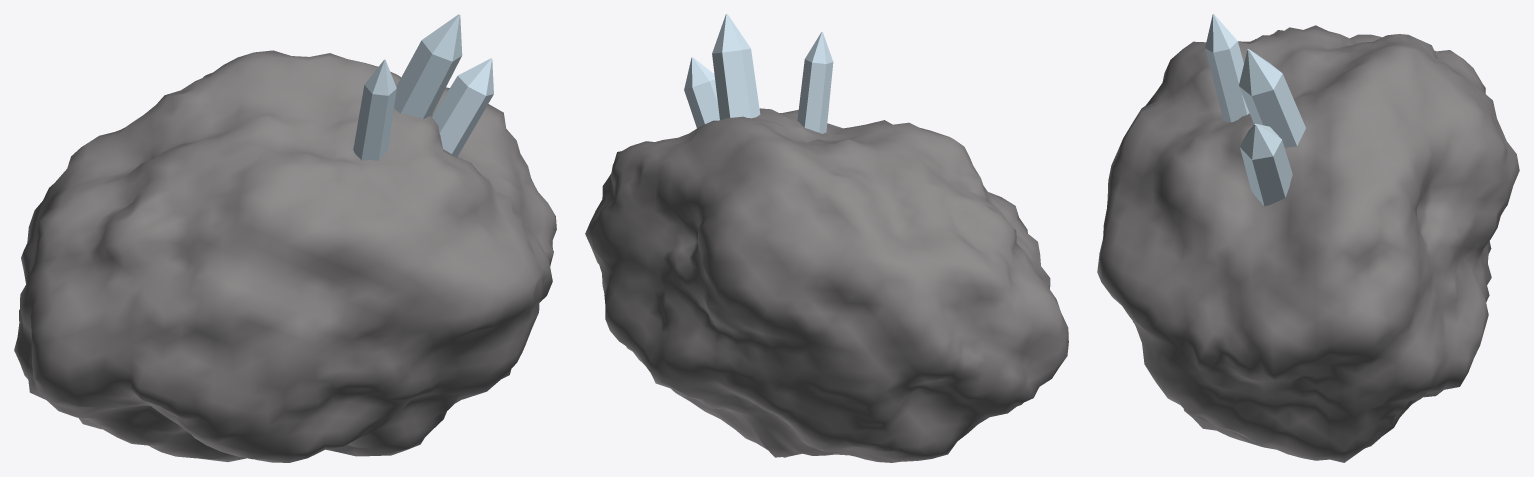
File: certus_quartz_surface.glb
3 renders of one model, left to right at view 1: azimuth 30°, elevation 25°; view 2: azimuth 150°, elevation 25°; view 3: azimuth 270°, elevation 25°, orthographic. The views are drawn at different scales.
Parts seen in each view (by area): view 1: certus_quartz_surface; view 2: certus_quartz_surface; view 3: certus_quartz_surface.
Boxes of the visible parts, x1,y1,x2,y2 form: certus_quartz_surface: (14,14,556,462); certus_quartz_surface: (585,14,1068,462); certus_quartz_surface: (1097,14,1519,462).
Bounding box in the file's own units: 1.26 × 1.01 × 0.8741.
